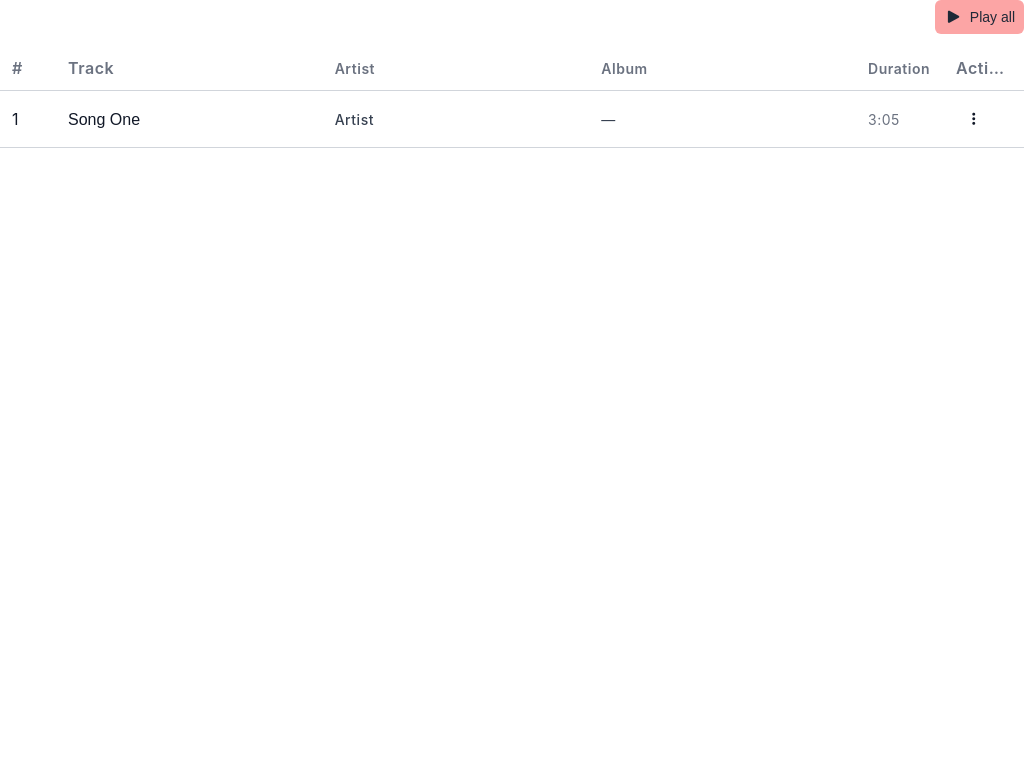
it: TrackList › opens the add-to-library modal from the context menu
This screenshot has width=1024, height=768.
Click the button named "Actions".
click(974, 119)  # box [956, 103, 992, 135]
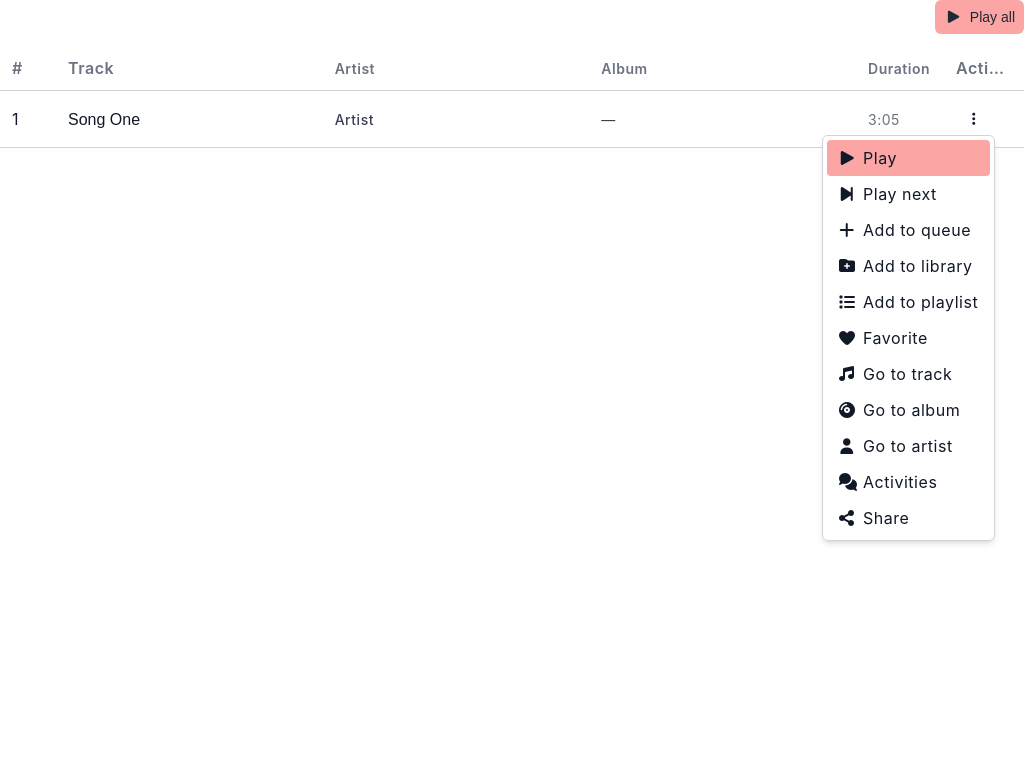
Click the menu item "Add to library".
click(906, 266)  # box [839, 256, 973, 276]
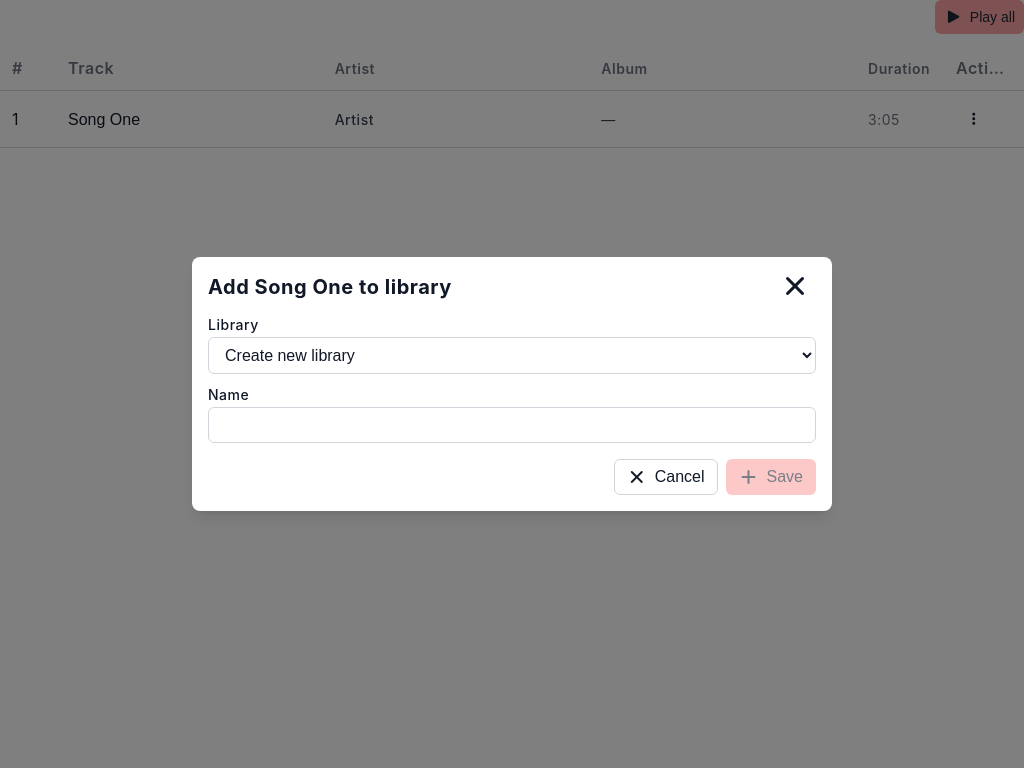
expect the element with class "app-modal__overlay" is shown: met
